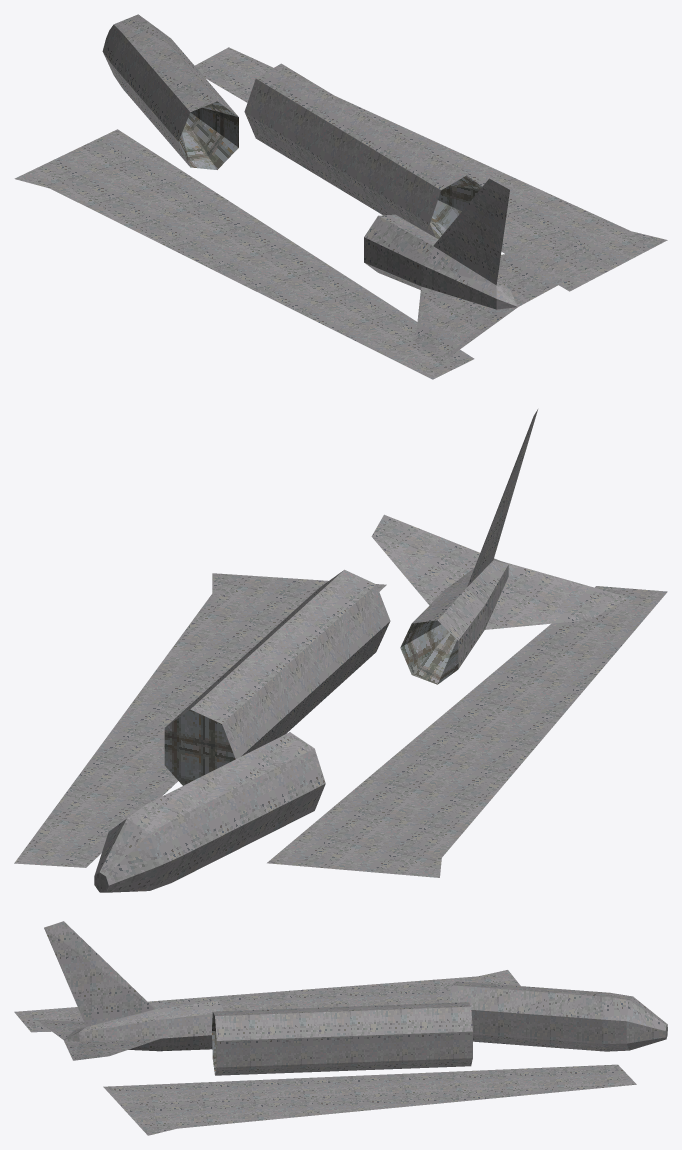
File: lod_bnyd_blk3_.obj
The picture shows the model from 3 angles, top to bottom: view 1: azimuth 30°, elevation 25°; view 2: azimuth 150°, elevation 25°; view 3: azimuth 270°, elevation 25°; orthographic projection. The views are drawn at different scales.
Visible parts, largest first — view 1: lod_bnyd_blk3_; view 2: lod_bnyd_blk3_; view 3: lod_bnyd_blk3_.
Part boxes in pixels (x1,y1,x2,y2): lod_bnyd_blk3_: [14, 14, 667, 379]; lod_bnyd_blk3_: [14, 409, 667, 892]; lod_bnyd_blk3_: [14, 921, 667, 1135].
Size of the model in its own units: 23.18 by 8.45 by 38.56.
2 materials, 2 textured.
